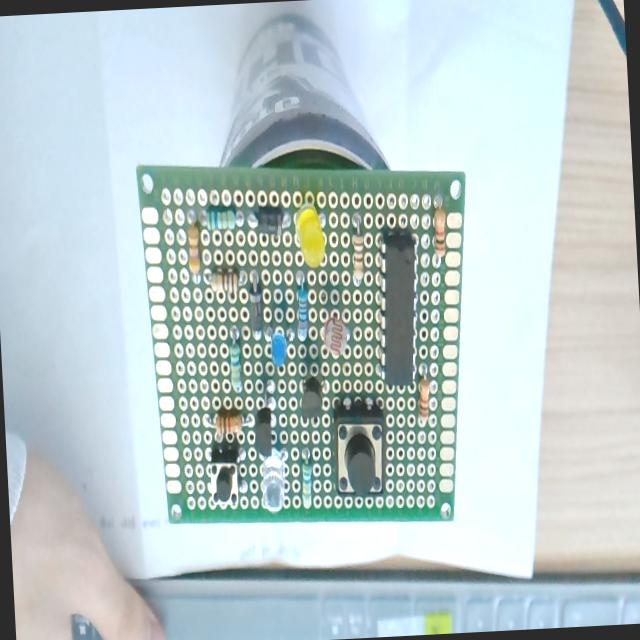IC: (372, 224, 424, 388)
cds: (318, 310, 356, 361)
diode: (246, 200, 291, 240), (248, 274, 264, 336)
led: (291, 196, 332, 274), (256, 445, 292, 513)
resistor: (294, 274, 310, 342), (351, 220, 366, 284), (210, 268, 240, 300), (214, 409, 243, 442), (432, 206, 448, 259), (229, 338, 244, 394), (270, 328, 288, 369), (187, 225, 201, 275), (207, 208, 236, 232), (417, 378, 432, 423), (301, 461, 314, 507)
switch: (332, 402, 388, 498), (208, 450, 240, 508)
transistor: (296, 372, 332, 424), (254, 384, 275, 456)
